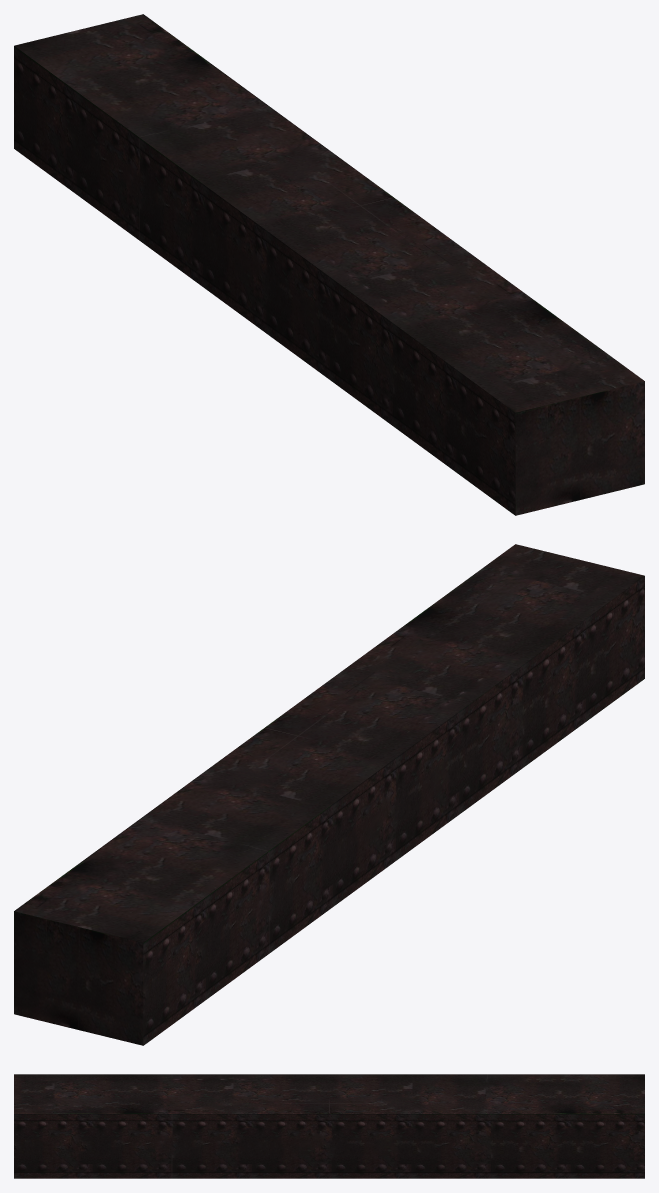
File: recpipe.FBX
3 views of the same model, one above another, from view 1: azimuth 30°, elevation 25°; view 2: azimuth 150°, elevation 25°; view 3: azimuth 270°, elevation 25° (orthographic). The views are drawn at different scales.
Parts seen in each view (by area): view 1: Plane001; view 2: Plane001; view 3: Plane001.
Part boxes in pixels (<box>): Plane001: <box>14,14,644,515</box>; Plane001: <box>14,544,644,1045</box>; Plane001: <box>14,1074,644,1178</box>.
Size of the model in its own units: 83.93 by 63.84 by 563.
1 material, 1 textured.
